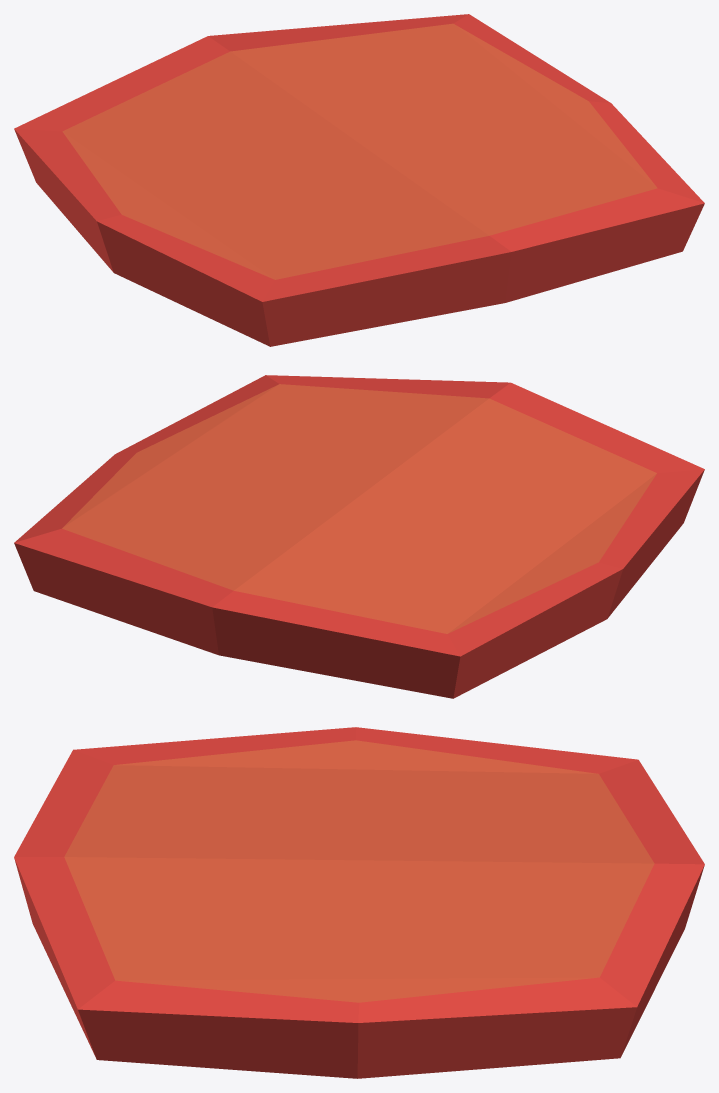
The model's file is grapefruitSlice.fbx.
3 renders of one model, top to bottom at view 1: azimuth 30°, elevation 25°; view 2: azimuth 150°, elevation 25°; view 3: azimuth 270°, elevation 25°, orthographic. The views are drawn at different scales.
Visible parts, largest first — view 1: grapefruitSlice; view 2: grapefruitSlice; view 3: grapefruitSlice.
Boxes of the visible parts, x1,y1,x2,y2 form: grapefruitSlice: (14, 14, 704, 346); grapefruitSlice: (14, 375, 704, 698); grapefruitSlice: (14, 727, 704, 1078).
Size of the model in its own units: 5.79 by 0.8519 by 5.9.
Materials: 1 (1 with a texture image).
